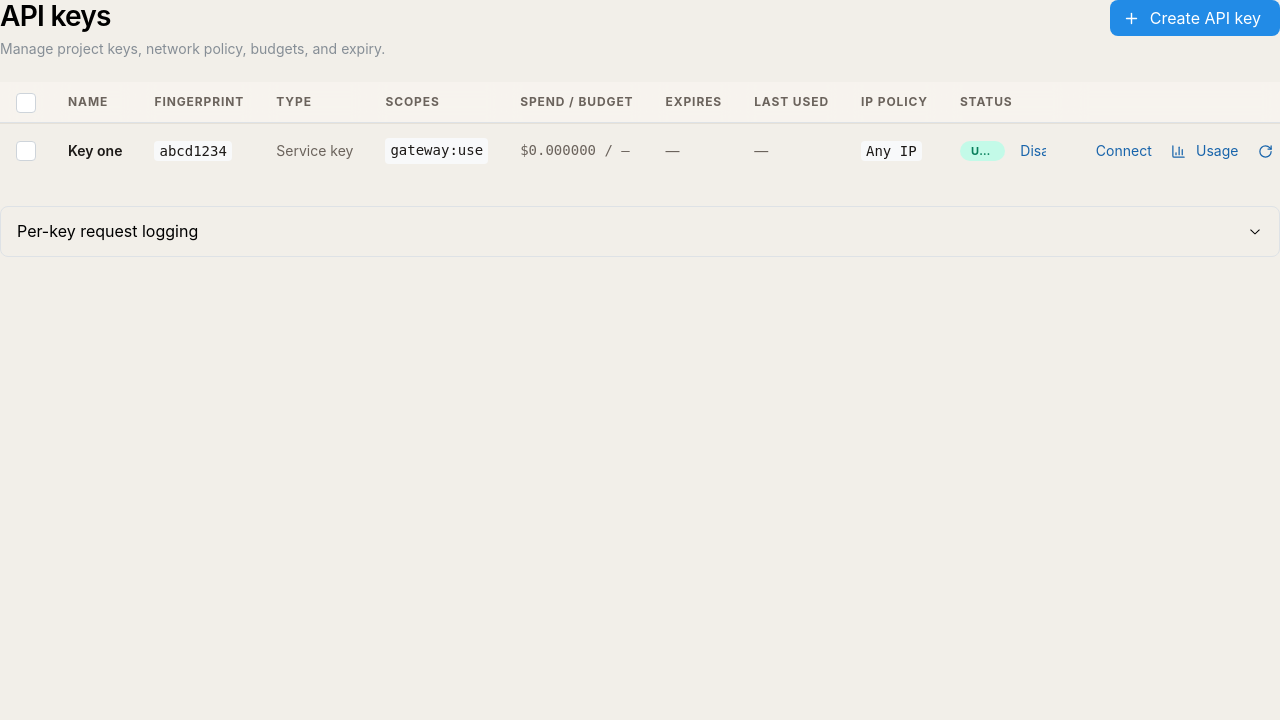
Test: per-key usage from the key row › shows unmeasured marks when requests exist without a usage measurement
Click the button with aria-label "Usage Key one" at (1206, 151), box [1165, 138, 1248, 164]
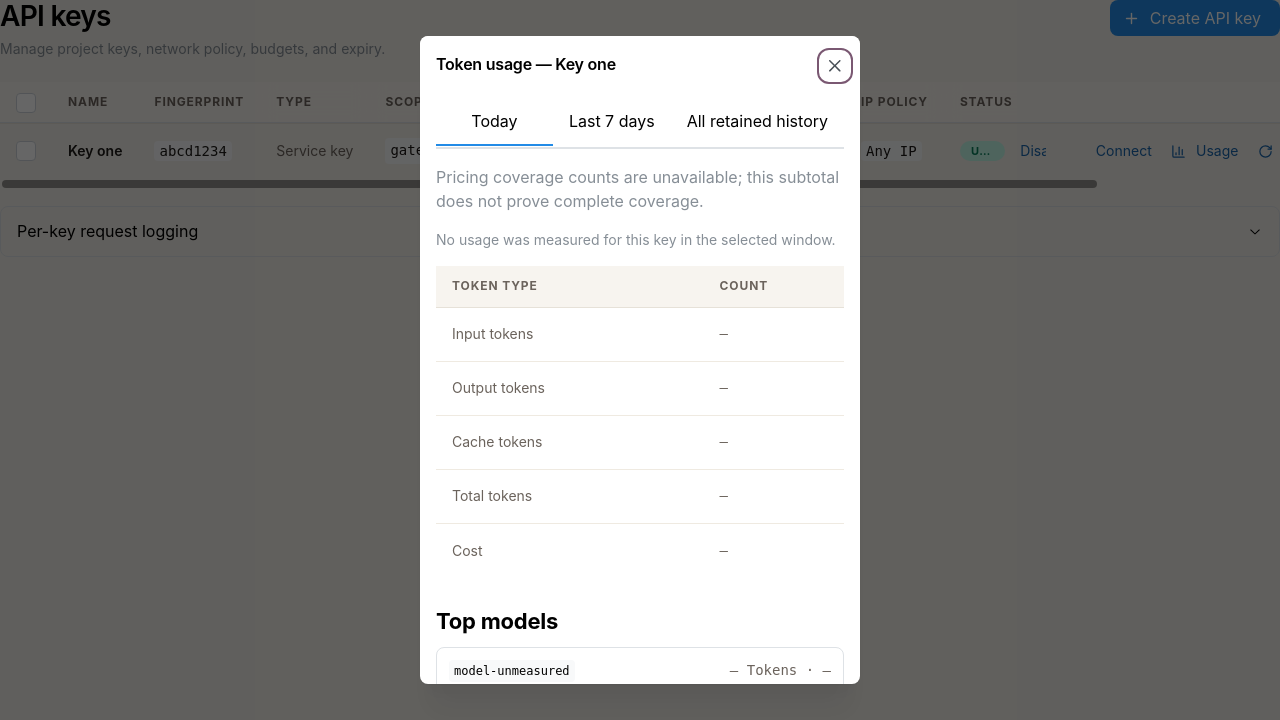
Now the text "No usage was measured for this key in the selected window." is shown, box [436, 229, 844, 250]
Now the text "model-unmeasured" is shown, box [449, 660, 575, 682]
